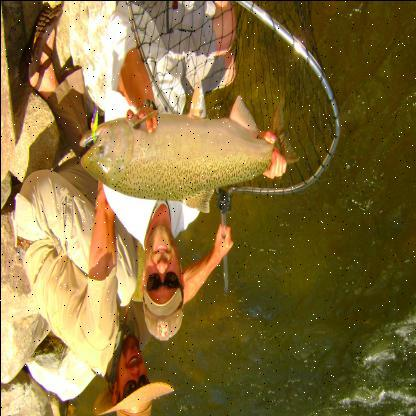fish: (79, 92, 299, 213)
